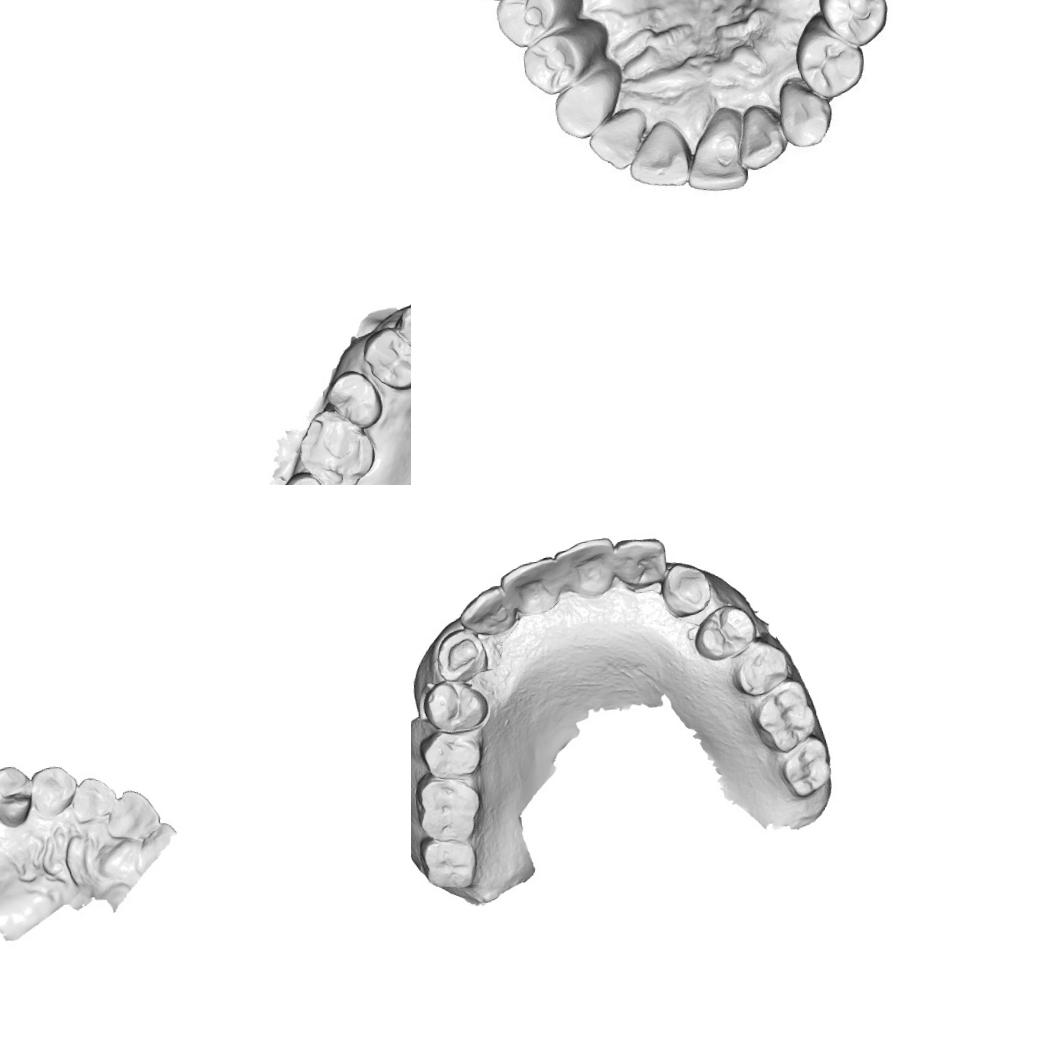canine: (547, 66, 625, 146), (772, 74, 834, 151), (656, 558, 717, 620), (432, 625, 490, 684), (28, 763, 80, 819), (393, 297, 411, 354)
incisor: (682, 103, 752, 190), (552, 531, 621, 602), (584, 104, 652, 176), (620, 122, 693, 188), (496, 555, 564, 619), (734, 102, 792, 170), (452, 583, 518, 640), (611, 533, 670, 592), (102, 786, 163, 841), (69, 774, 119, 825)
molar: (292, 407, 380, 485), (747, 676, 824, 756), (412, 772, 488, 845), (777, 734, 838, 802), (418, 837, 482, 896)
premolar: (786, 8, 870, 100), (688, 601, 759, 665), (520, 27, 588, 92), (419, 676, 492, 736), (805, 0, 891, 50), (732, 640, 794, 701), (420, 726, 486, 783), (325, 369, 386, 430), (361, 325, 411, 397), (494, 0, 563, 49), (0, 763, 35, 830)
